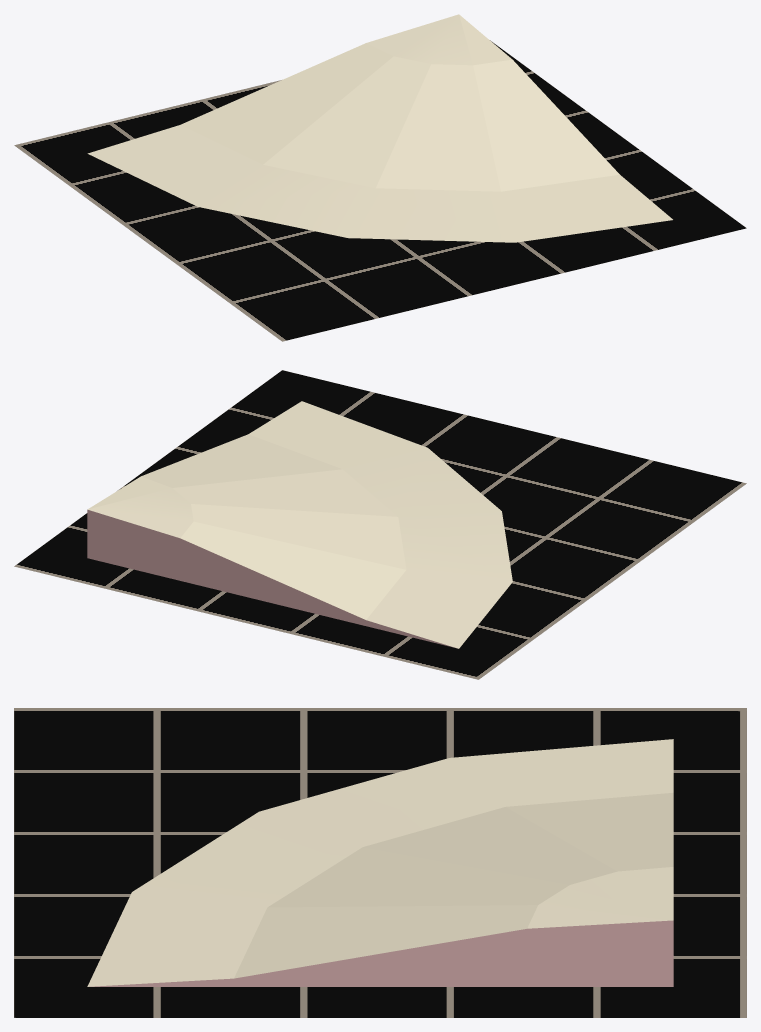
File: Terrain_Sand_Incline_Curve_Outer_4x4.glb
3 renders of one model, top to bottom at view 1: azimuth 30°, elevation 25°; view 2: azimuth 150°, elevation 25°; view 3: azimuth 270°, elevation 25°, orthographic. The views are drawn at different scales.
Visible parts, largest first — view 1: Terrain_Sand_Incline_Curve_Outer_4x4, Floor; view 2: Terrain_Sand_Incline_Curve_Outer_4x4, Floor; view 3: Floor, Terrain_Sand_Incline_Curve_Outer_4x4.
Part boxes in pixels (left/top/right/bottom): Terrain_Sand_Incline_Curve_Outer_4x4: left=87, top=14, right=672, bottom=242; Floor: left=14, top=40, right=746, bottom=341; Terrain_Sand_Incline_Curve_Outer_4x4: left=87, top=401, right=512, bottom=648; Floor: left=14, top=370, right=746, bottom=679; Floor: left=14, top=708, right=746, bottom=1017; Terrain_Sand_Incline_Curve_Outer_4x4: left=87, top=739, right=673, bottom=986.
Bounding box in the file's own units: 500 × 50 × 500.
4 materials, 1 textured.
